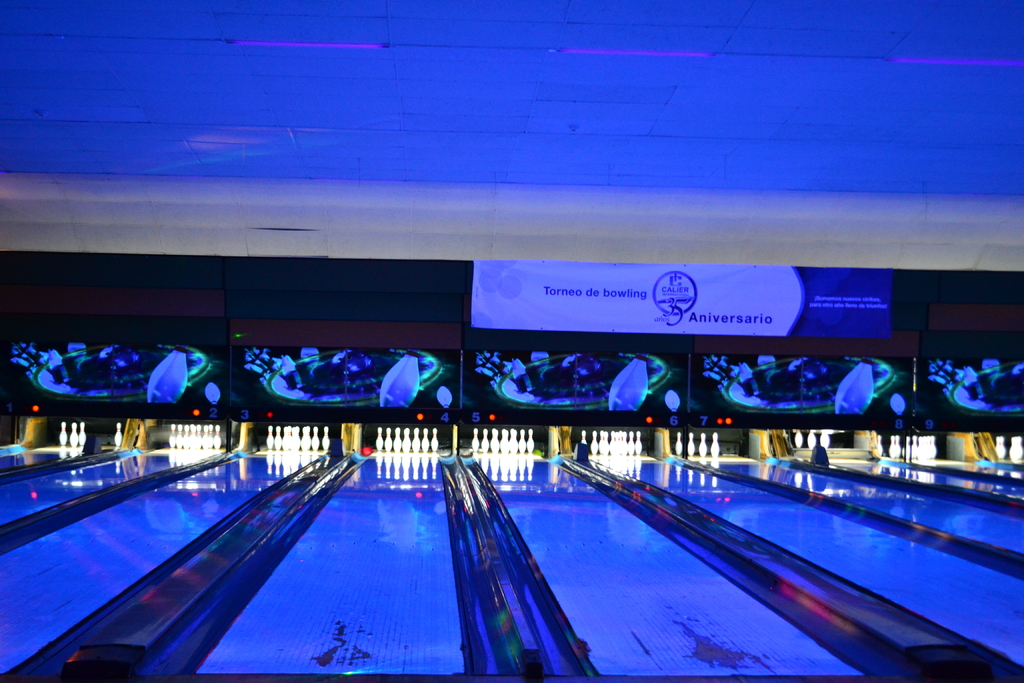Ball: (360, 444, 375, 454)
